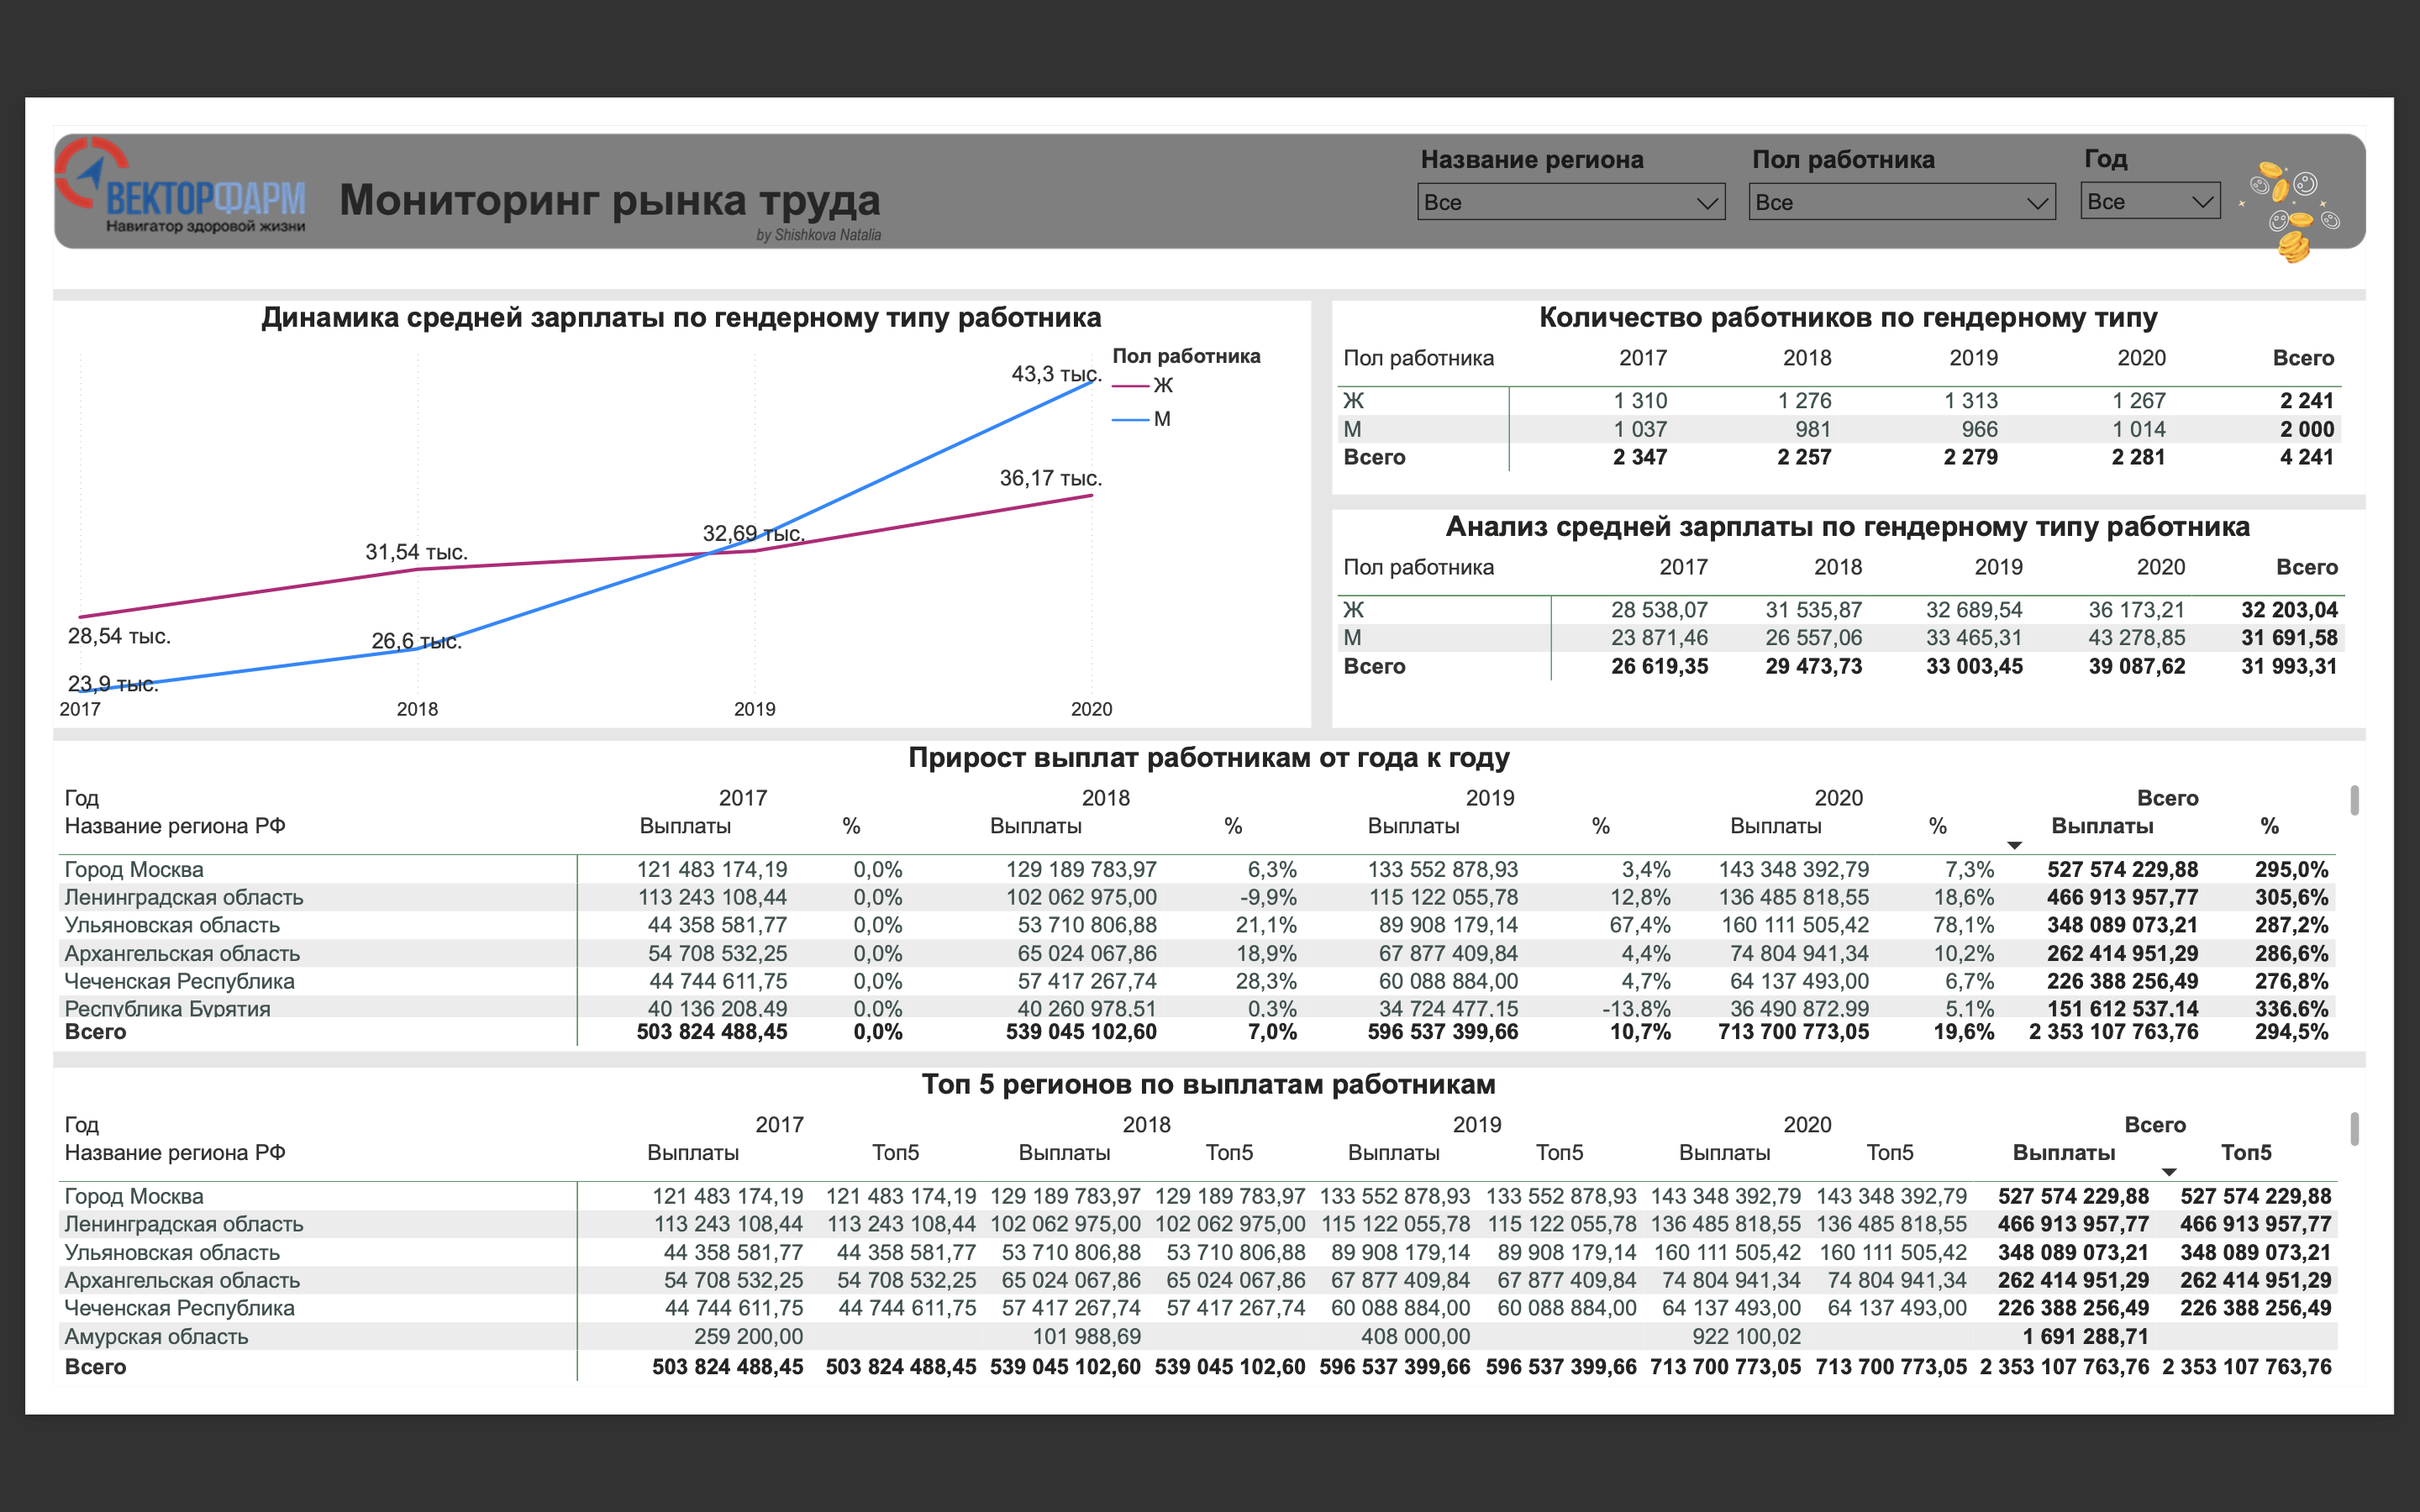

The dashboard page shown, as its layout file describes it:
{"tool":"powerbi","page":{"name":"Дашборд_2","canvas":[1980,1080],"ordinal":1},"visuals":[{"type":"lineChart","title":"Динамика средней зарплаты по гендерному типу  работника","fields":{"Category":["календарь.Год"],"Y":["выплаты работодателей работникам.Средняя ЗП"],"Series":["работники.Пол работника"]},"box":[0,150,1077,366],"z":0},{"type":"pivotTable","title":"Прирост выплат  работникам от года к году","fields":{"Rows":["справочник ОКТМО (регионов РФ).Название региона РФ"],"Values":["выплаты работодателей работникам.Выплаты","выплаты работодателей работникам.%"],"Columns":["календарь.Год"]},"box":[0,526.7,1980,266.7],"z":1000},{"type":"pivotTable","title":"Топ 5 регионов по выплатам работникам","fields":{"Rows":["справочник ОКТМО (регионов РФ).Название региона РФ"],"Values":["выплаты работодателей работникам.Выплаты","выплаты работодателей работникам.Выплаты_Топ5"],"Columns":["календарь.Год"]},"box":[0,806.7,1980,273.3],"z":2000},{"type":"image","box":[0,0,1980,140],"z":3000},{"type":"pivotTable","title":"Анализ средней зарплаты по гендерному типу  работника","fields":{"Rows":["работники.Пол работника"],"Values":["выплаты работодателей работникам.Средняя ЗП"],"Columns":["календарь.Год"]},"box":[1095,329,885,187],"z":4000},{"type":"pivotTable","title":"Количество работников по гендерному типу ","fields":{"Rows":["работники.Пол работника"],"Columns":["календарь.Год"],"Values":["выплаты работодателей работникам.Количество работников"]},"box":[1095,150,885,166],"z":5000},{"type":"slicer","fields":{"Values":["календарь.Год"]},"box":[1725.7,11.4,140,81.4],"z":6000},{"type":"slicer","fields":{"Values":["справочник ОКТМО (регионов РФ).Название региона РФ"]},"box":[1158.3,11.7,283.3,81.7],"z":7000},{"type":"slicer","fields":{"Values":["работники.Пол работника"]},"box":[1441.7,11.7,283.3,81.7],"z":8000}]}

Visuals, with their boxes on the page's 1980x1080 design canvas (x1, y1, x2, y2). These are canvas units, not pixel positions in the 2420x1512 screenshot, which may show the page scaled, cropped or inside an application window:
"Динамика средней зарплаты по гендерному типу  работника" lineChart: <region>0, 150, 1077, 516</region>
"Прирост выплат  работникам от года к году" pivotTable: <region>0, 527, 1980, 793</region>
"Топ 5 регионов по выплатам работникам" pivotTable: <region>0, 807, 1980, 1080</region>
image: <region>0, 0, 1980, 140</region>
"Анализ средней зарплаты по гендерному типу  работника" pivotTable: <region>1095, 329, 1980, 516</region>
"Количество работников по гендерному типу " pivotTable: <region>1095, 150, 1980, 316</region>
slicer - календарь.Год: <region>1726, 11, 1866, 93</region>
slicer - справочник ОКТМО (регионов РФ).Название региона РФ: <region>1158, 12, 1442, 93</region>
slicer - работники.Пол работника: <region>1442, 12, 1725, 93</region>
